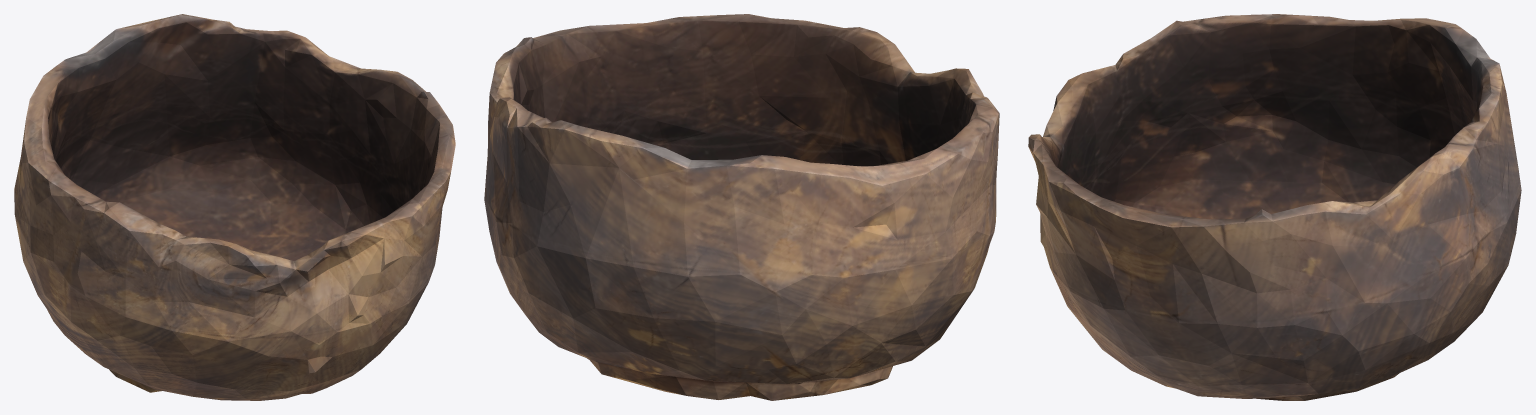
File: Чаша русское устье.obj
The picture shows the model from 3 angles, left to right: view 1: azimuth 30°, elevation 25°; view 2: azimuth 150°, elevation 25°; view 3: azimuth 270°, elevation 25°; orthographic projection. The views are drawn at different scales.
Bounding box in the file's own units: 1.63 × 1.08 × 1.64.
Materials: 1 (1 with a texture image).
